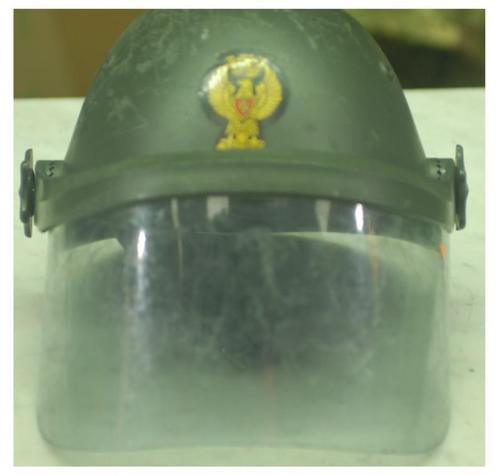helmet: (39, 13, 453, 426)
